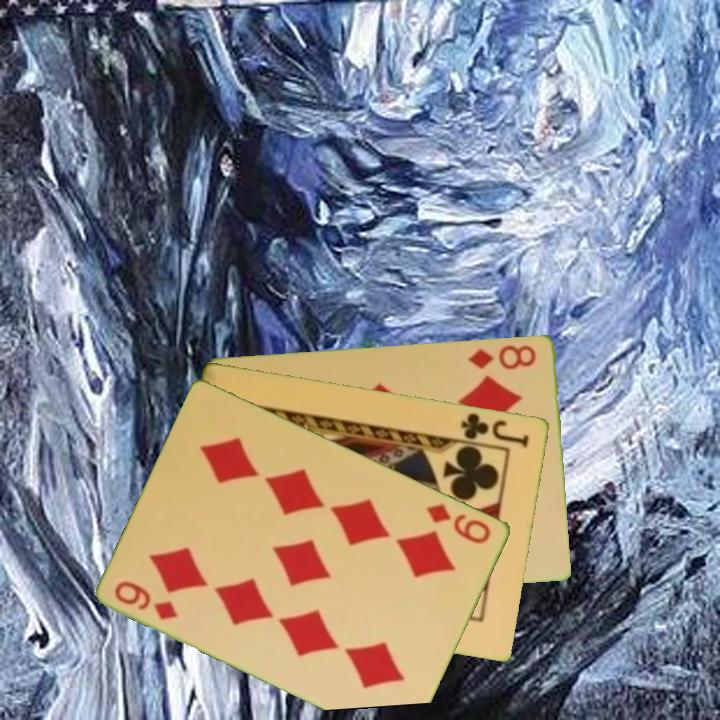8d: (465, 341, 540, 372)
9d: (422, 500, 494, 547), (111, 577, 182, 623)
Jc: (458, 409, 533, 450)
